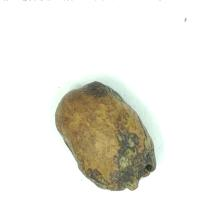NG: (113, 116, 157, 190), (85, 78, 130, 106), (81, 167, 111, 189)
